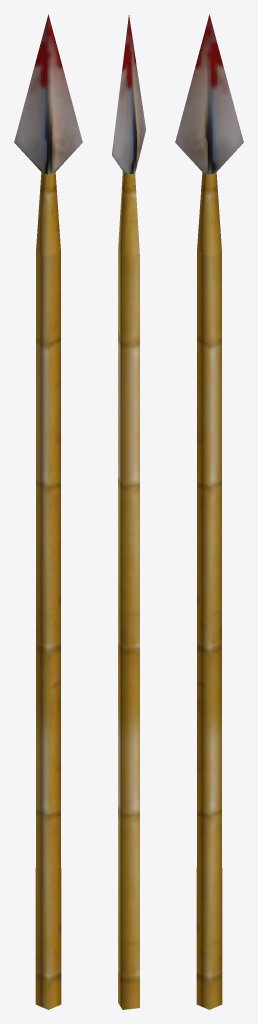
Rendered from spear_bamboo_blood.dae.
3 views of the same model, side by side, from view 1: azimuth 90°, elevation 25°; view 2: azimuth 150°, elevation 25°; view 3: azimuth 270°, elevation 25° (orthographic).
Parts seen in each view (by area): view 1: spear_bamboo_002; view 2: spear_bamboo_002; view 3: spear_bamboo_002.
Boxes of the visible parts, <box> form: spear_bamboo_002: <box>14,14,82,1009</box>; spear_bamboo_002: <box>112,15,145,1009</box>; spear_bamboo_002: <box>175,14,243,1009</box>.
Size of the model in its own units: 0.0988 by 4.27 by 0.2673.
